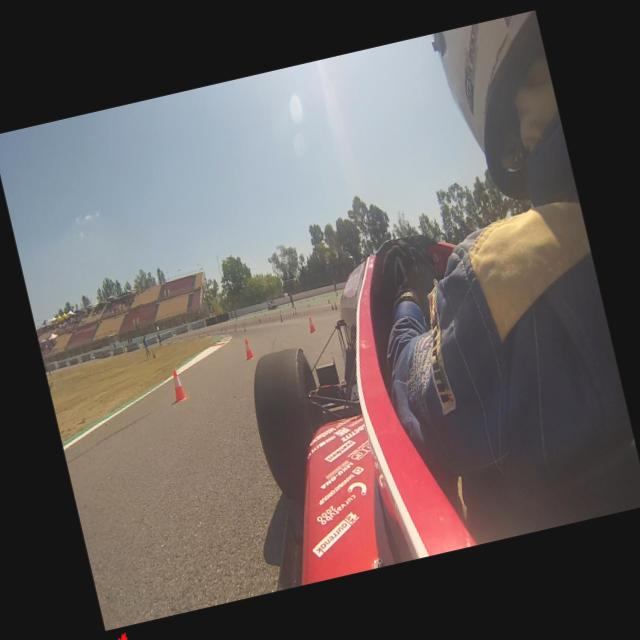orange_cone: (168, 367, 190, 403), (241, 337, 255, 360), (306, 315, 316, 333), (333, 301, 338, 310)
